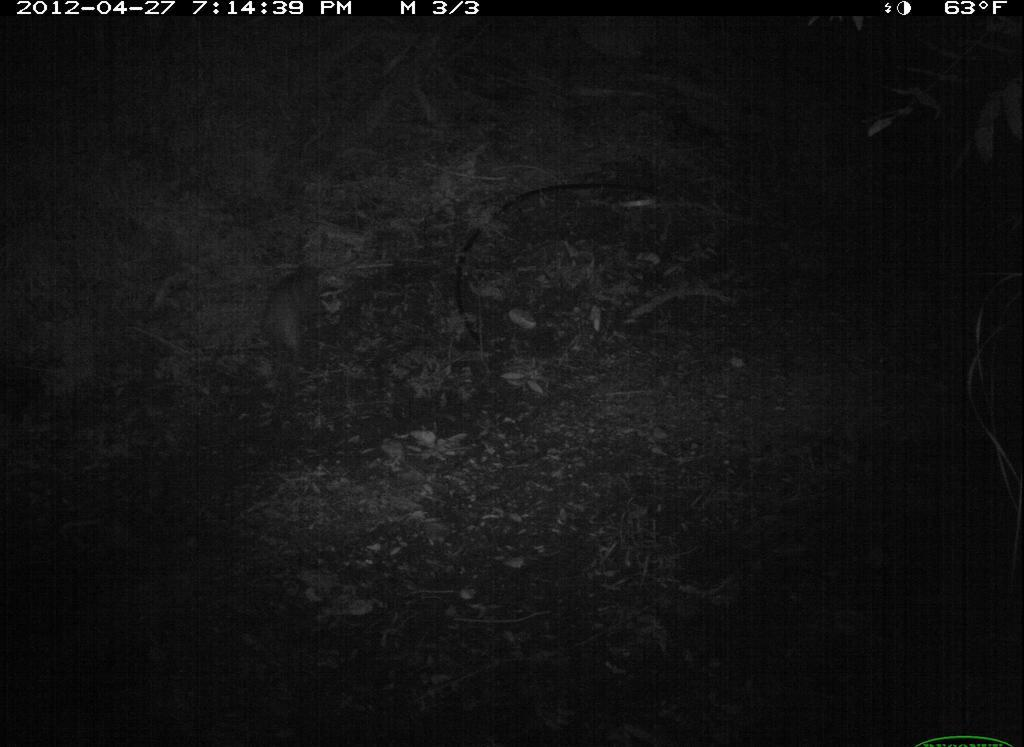opossum: (242, 245, 349, 373)
